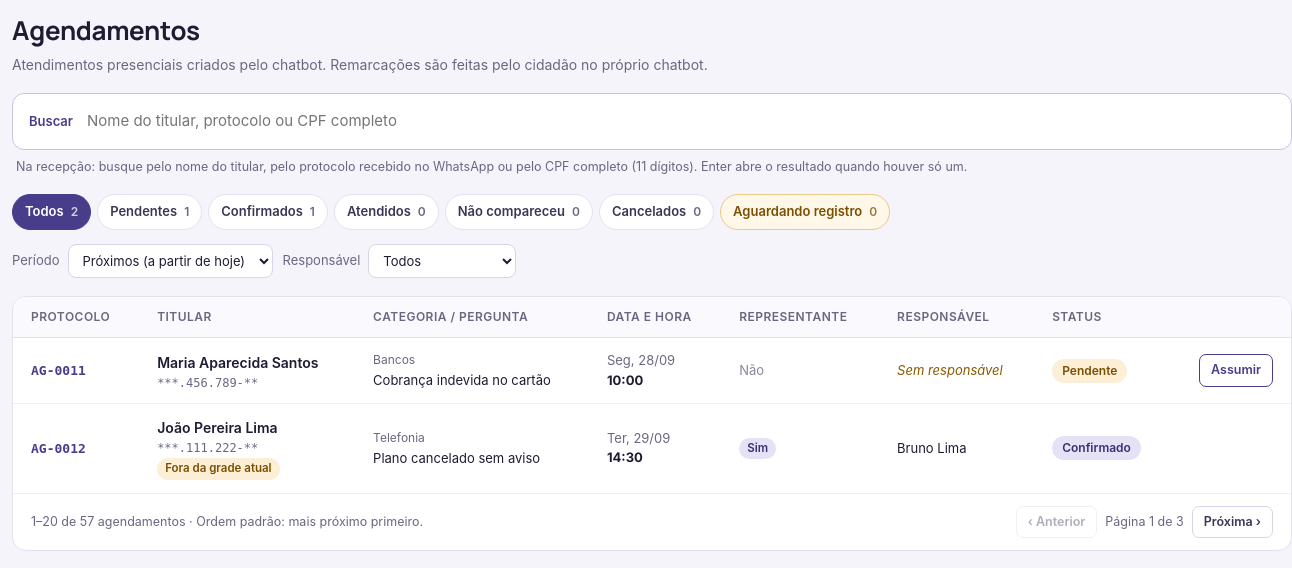
it: Appointments.page: paginação e URL › mostra a contagem, a página e navega com Anterior e Próxima
This screenshot has width=1292, height=568.
Check: the text "1–20 de 57 agendamentos · Ordem padrão: mais próximo primeiro." is shown, box [31,512,423,531]
Check: the text "Página 1 de 3" is shown, box [1105,512,1184,531]
What coordinates should you click on to do the following:
click the button "Próxima ›"
I would click on:
 (1232, 522)
Its box is [1192,506,1273,538].
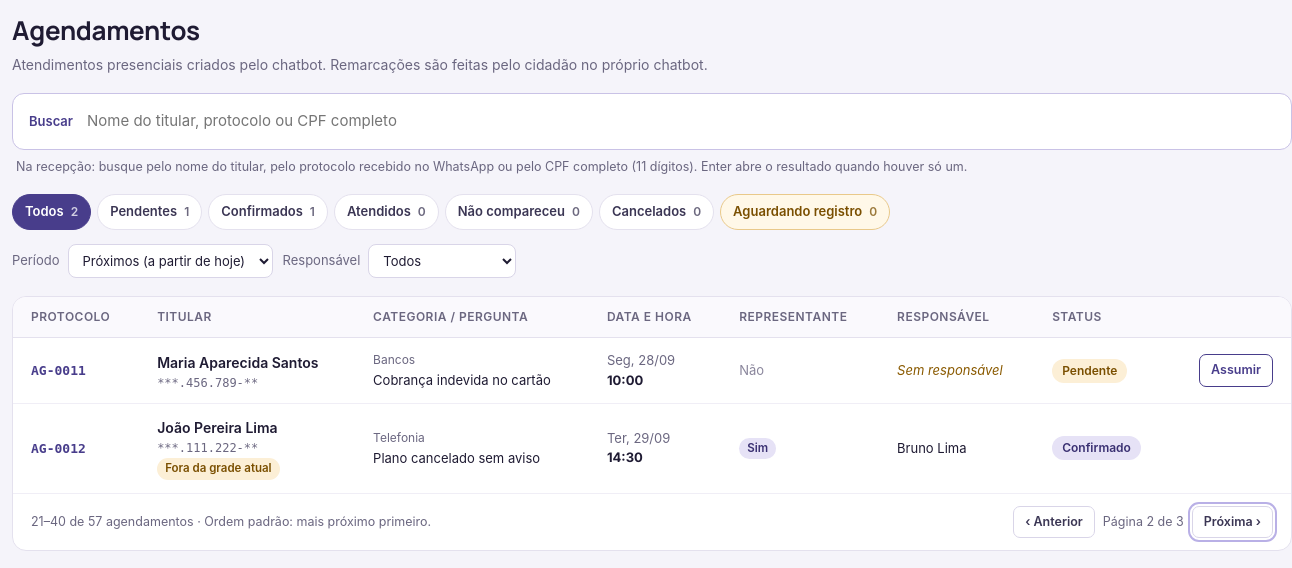
Check: the text "Página 2 de 3" is shown, box [1103,512,1184,531]
Check: the text "21–40 de 57 agendamentos" is shown, box [31,514,431,528]
What coordinates should you click on to do the following:
click the button "Próxima ›"
I would click on:
 (1232, 522)
Its box is [1192,506,1273,538].
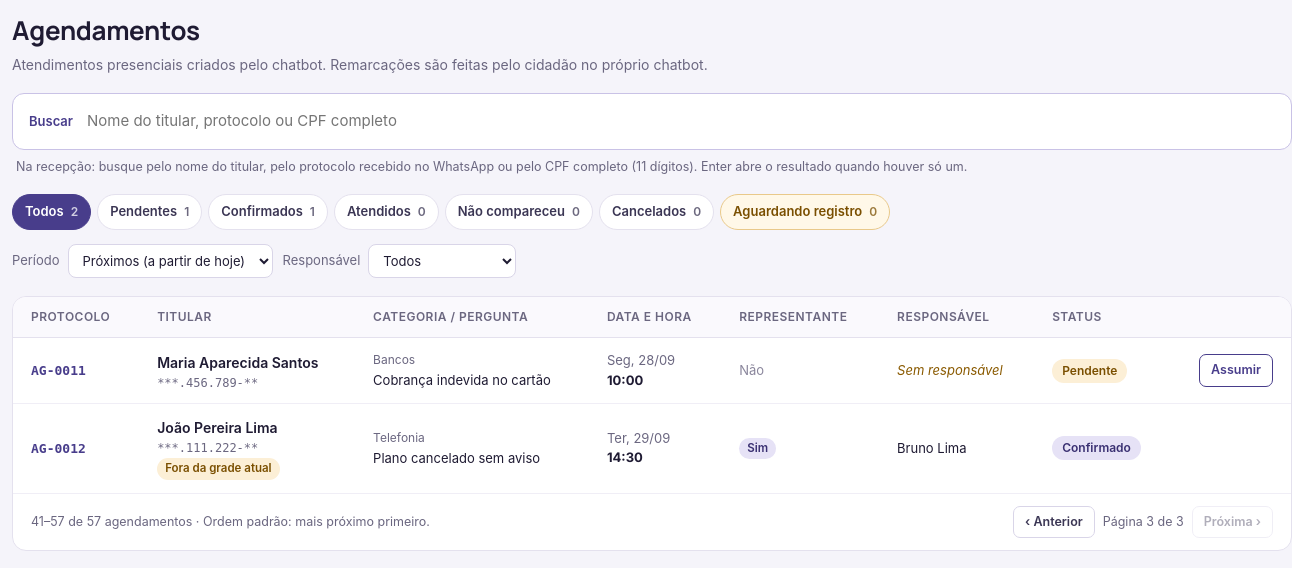
Check: the text "Página 3 de 3" is shown, box [1103,512,1184,531]
Check: the button "Próxima ›" is disabled, box [1192,506,1273,538]
What coordinates should you click on to do the following:
click the button "‹ Anterior"
I would click on:
 (1054, 522)
Its box is [1013,506,1095,538].
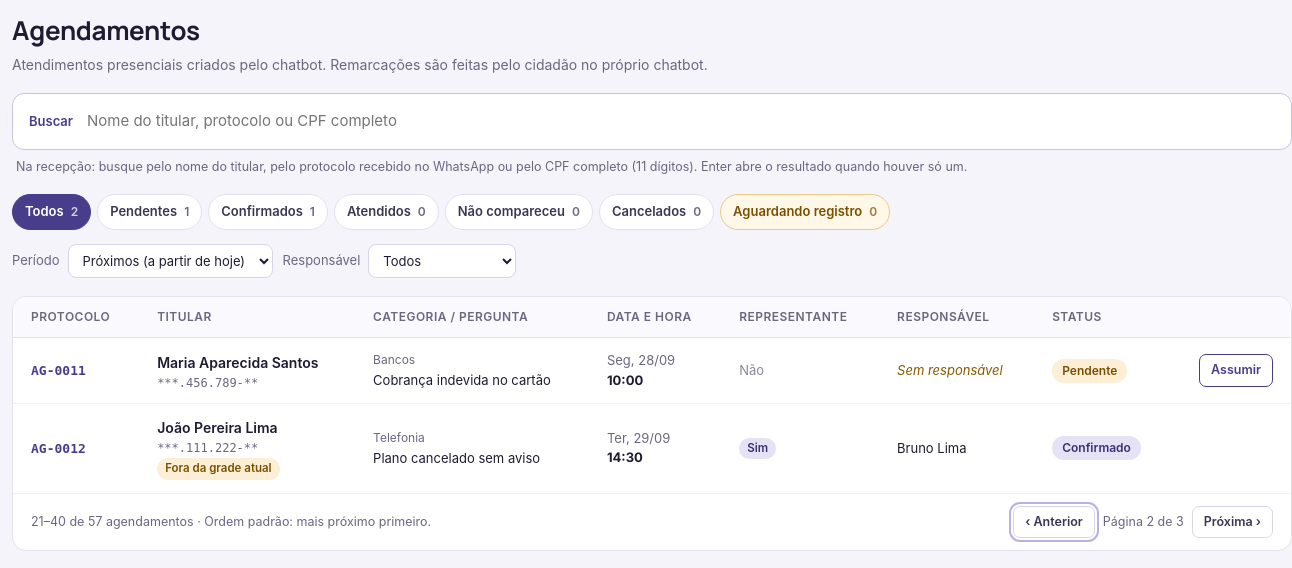
Check: the text "Página 2 de 3" is shown, box [1103,512,1184,531]
